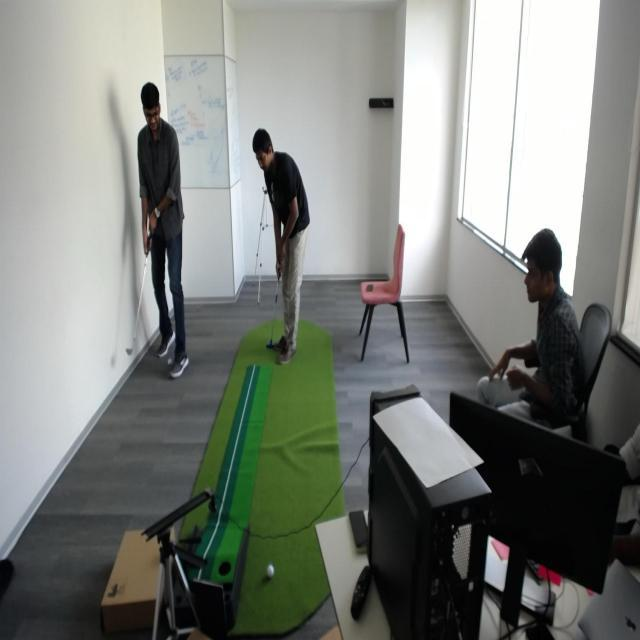ClubHead: (121, 334, 142, 362), (261, 331, 280, 356)
GolfBall: (264, 558, 276, 583)
